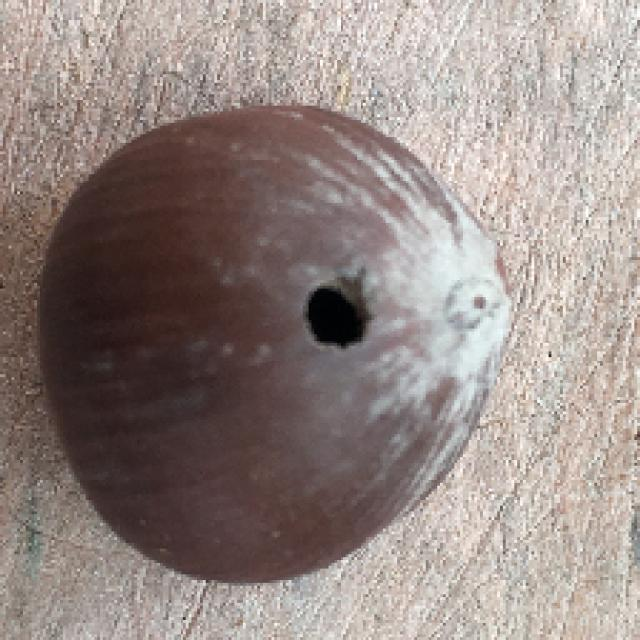damagedHazelnut: (29, 100, 521, 590)
